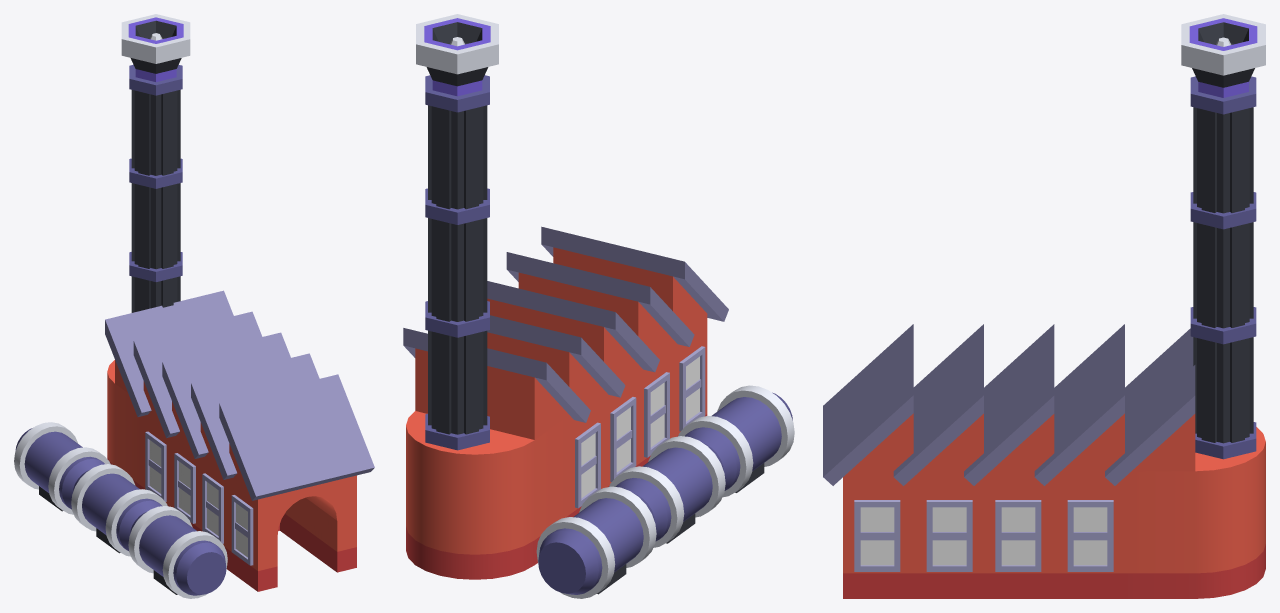
Rendered from factory.fbx.
3 renders of one model, left to right at view 1: azimuth 30°, elevation 25°; view 2: azimuth 150°, elevation 25°; view 3: azimuth 270°, elevation 25°, orthographic. The views are drawn at different scales.
Parts seen in each view (by area): view 1: mergedBlocks; view 2: mergedBlocks; view 3: mergedBlocks.
Part boxes in pixels (x1,y1,x2,y2): mergedBlocks: (14, 14, 374, 598); mergedBlocks: (403, 14, 794, 598); mergedBlocks: (823, 14, 1265, 598).
Bounding box in the file's own units: 19.17 × 42 × 31.41.
Materials: 1 (1 with a texture image).
